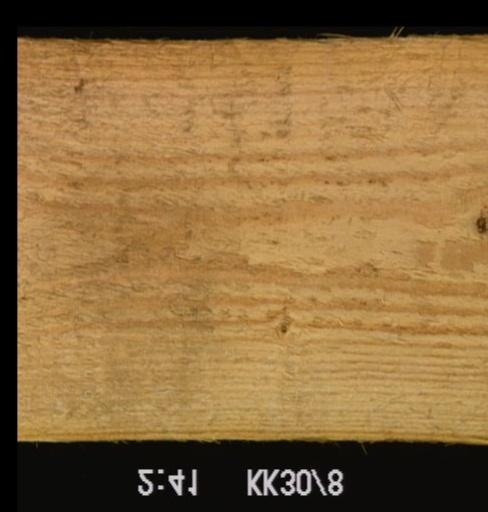small_knot: (66, 71, 99, 101), (271, 316, 296, 343)
